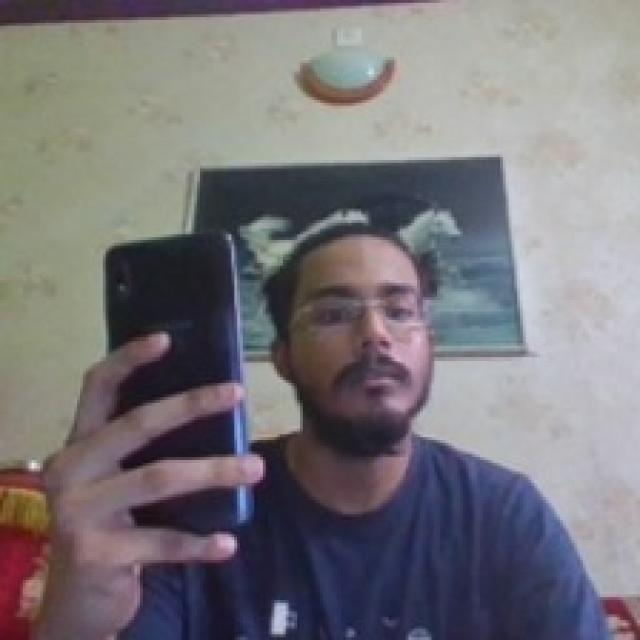Phone: (101, 226, 242, 537)
